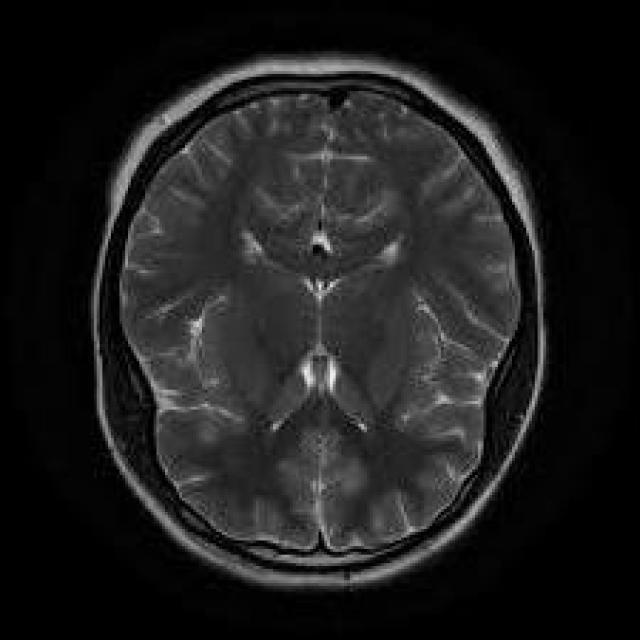No_Tumor: (91, 55, 544, 586)
